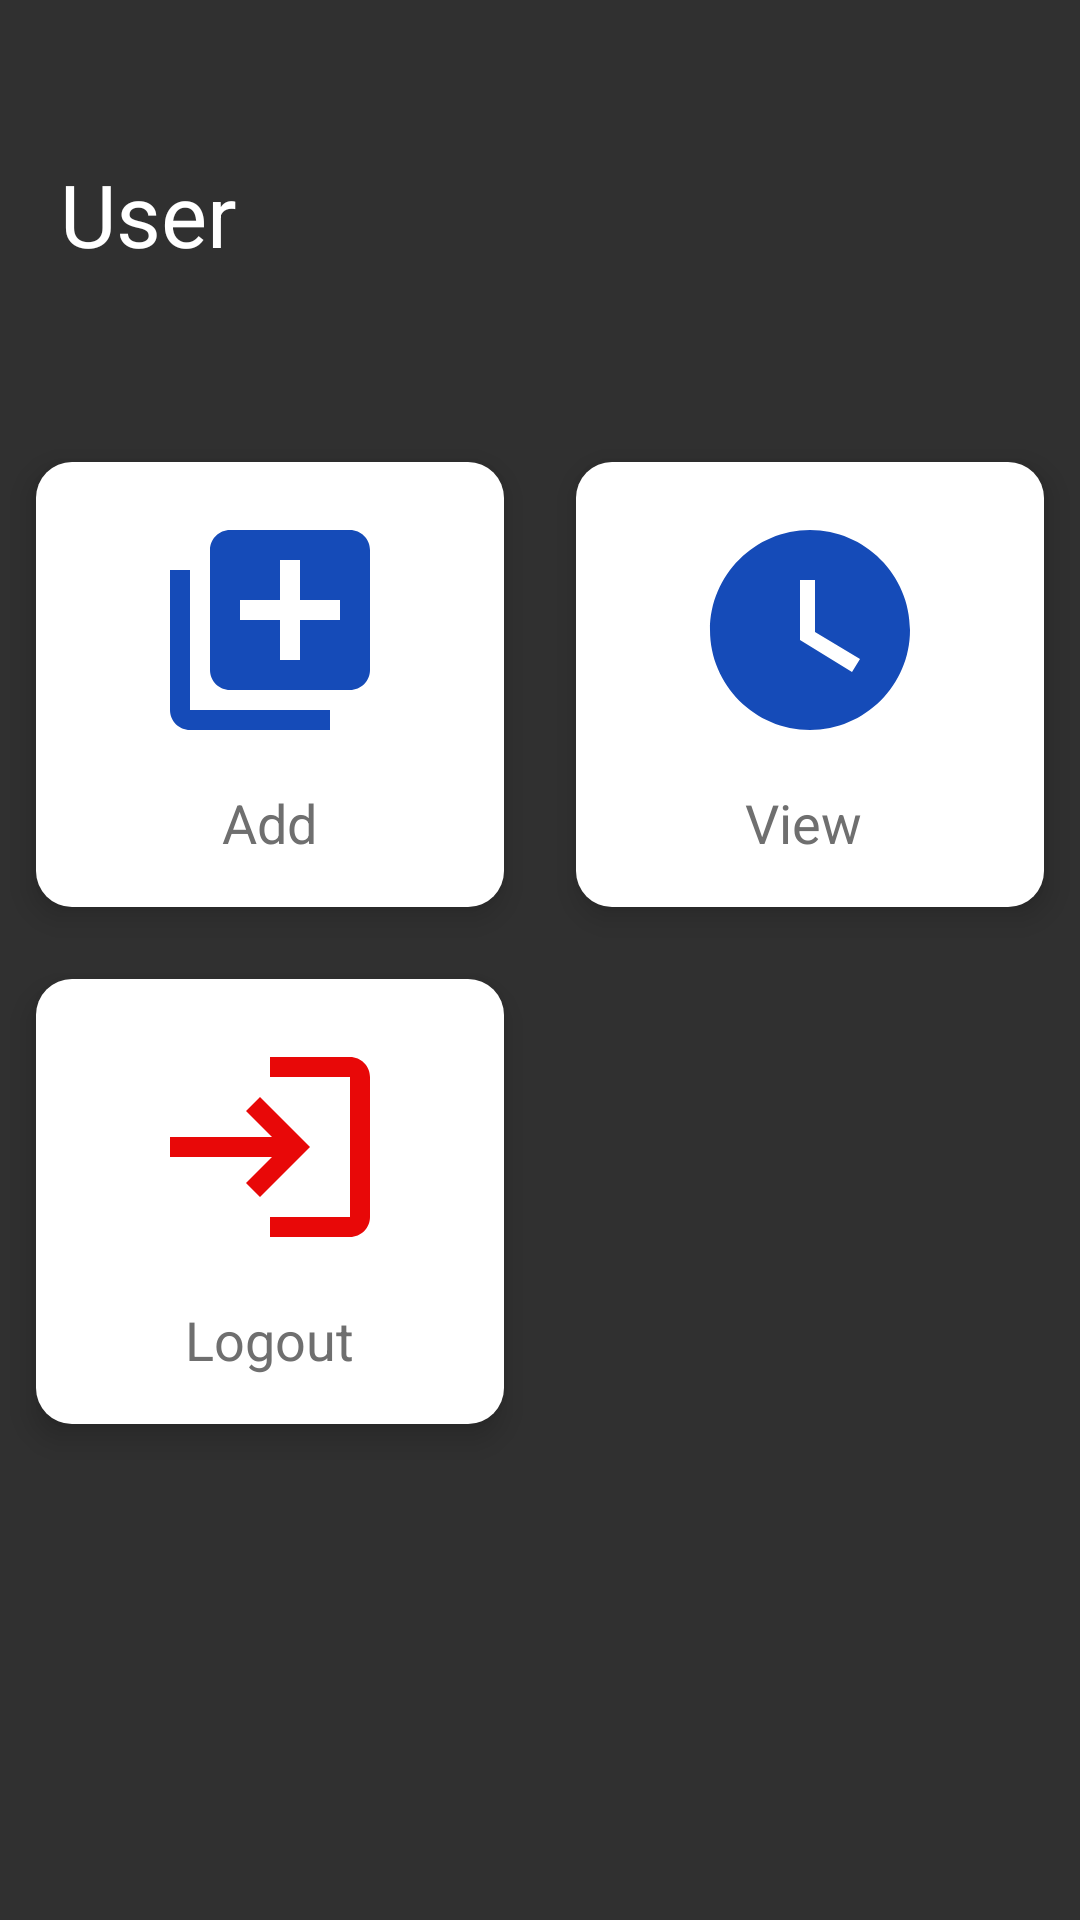

Where to tap for icons on this 1080px x 1920px app screen, as (x=x, y=y):
library add: (x=270, y=630)
login: (x=270, y=1147)
watch later: (x=810, y=630)
